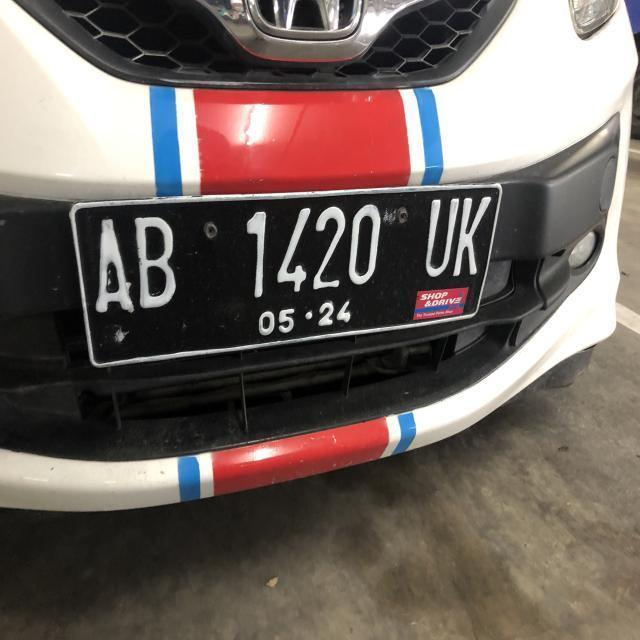1: (348, 199, 381, 288), (241, 201, 269, 301)
2: (314, 204, 346, 292)
4: (274, 204, 312, 297)
A: (94, 213, 133, 319)
B: (134, 210, 184, 334)
K: (458, 196, 488, 278)
U: (422, 198, 456, 282)
